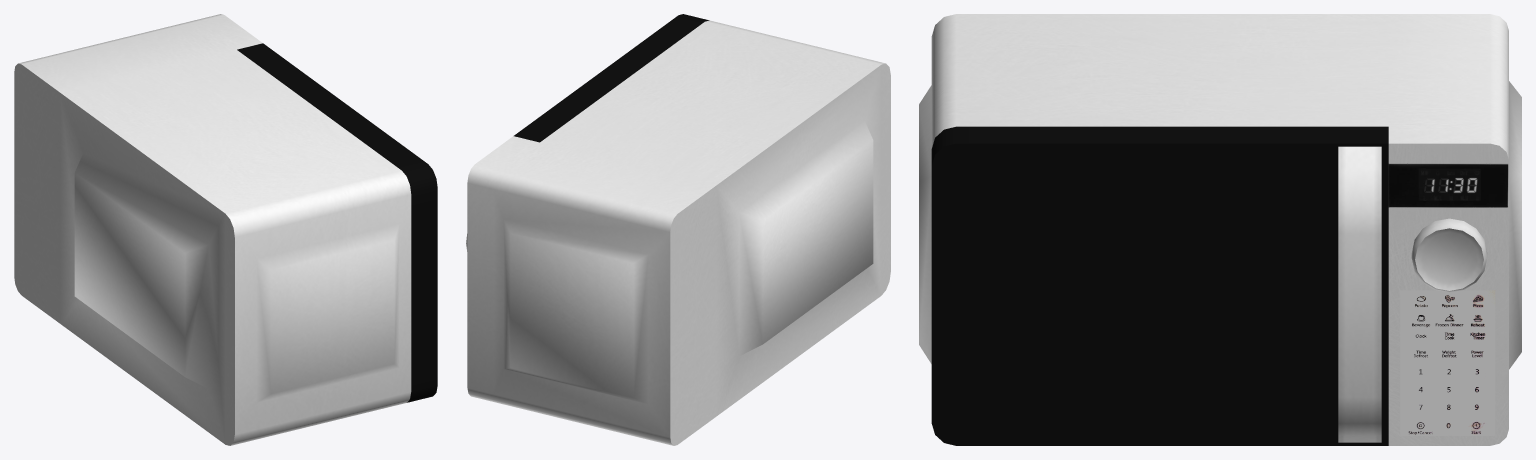
The model's file is malli.fbx.
The picture shows the model from 3 angles, left to right: view 1: azimuth 30°, elevation 25°; view 2: azimuth 150°, elevation 25°; view 3: azimuth 270°, elevation 25°; orthographic projection. The views are drawn at different scales.
Visible parts, largest first — view 1: tassut.002; view 2: tassut.002; view 3: tassut.002.
Part boxes in pixels (bbox=[...]): tassut.002: bbox=[14, 14, 437, 445]; tassut.002: bbox=[466, 14, 890, 445]; tassut.002: bbox=[919, 14, 1521, 445].
Bounding box in the file's own units: 91.23 × 82.91 × 145.
